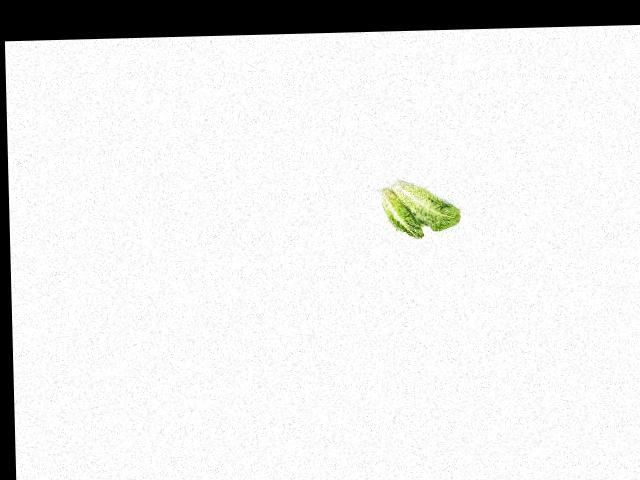lettuce: (396, 175, 461, 234)
